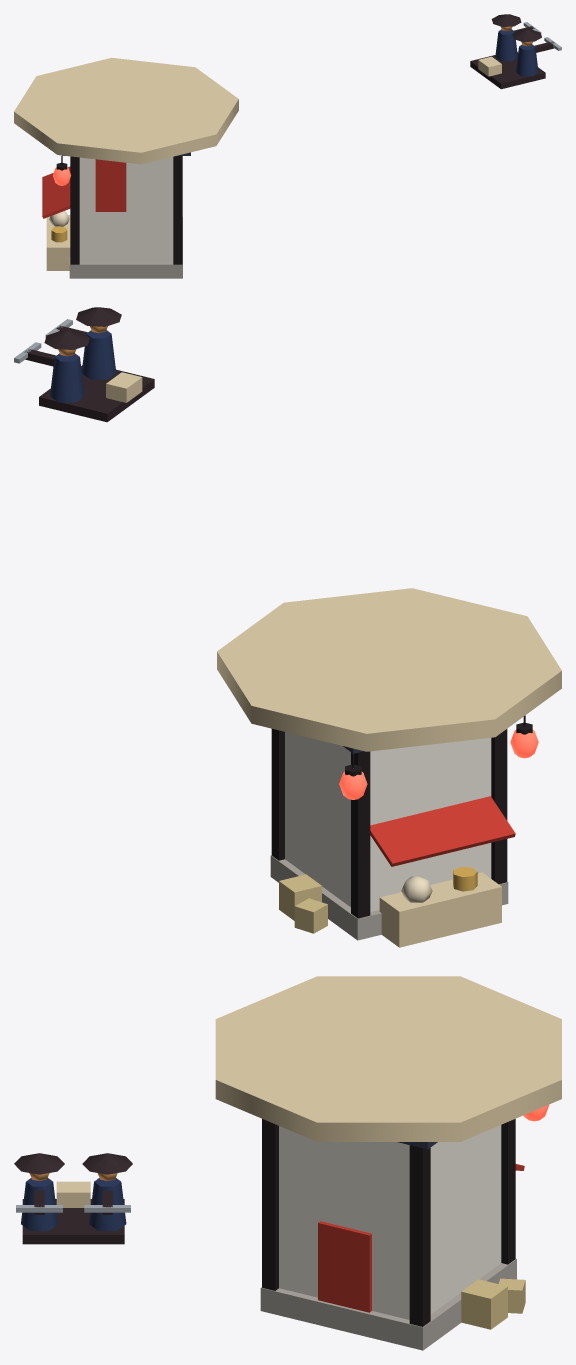
File: base_merchant_weapon_1.glb
3 renders of one model, top to bottom at view 1: azimuth 30°, elevation 25°; view 2: azimuth 150°, elevation 25°; view 3: azimuth 270°, elevation 25°, orthographic. The views are drawn at different scales.
Parts seen in each view (by area): view 1: tower_slot_1_plate, tower_slot_1_house, tower_slot_1_plinth, tower_slot_1_banner, tower_slot_1_post_3, tower_slot_1_post_1, tower_slot_1_awning, weapon_mount, tower_slot_1_counter, crossbowman_r_body, crossbowman_l_body, bolt_crate; view 2: tower_slot_1_plate, tower_slot_1_house, tower_slot_1_awning, tower_slot_1_counter, tower_slot_1_post_0, weapon_mount, tower_slot_1_plinth, tower_slot_1_post_1, tower_slot_1_post_2, crossbowman_l_body, crossbowman_r_body, tower_slot_1_crate_0 (+2 smaller); view 3: tower_slot_1_plate, tower_slot_1_house, tower_slot_1_plinth, tower_slot_1_door, tower_slot_1_post_2, tower_slot_1_post_3, weapon_mount, tower_slot_1_post_0, tower_slot_1_crate_0, crossbowman_l_body, crossbowman_r_body, bolt_crate (+3 smaller).
Boxes of the visible parts, x1,y1,x2,y2 form: tower_slot_1_plate: (14,57,238,164); tower_slot_1_house: (79,157,173,262); tower_slot_1_plinth: (69,217,182,278); tower_slot_1_banner: (95,159,126,211); tower_slot_1_post_3: (173,156,182,264); tower_slot_1_post_1: (70,156,79,264); tower_slot_1_awning: (42,166,70,218); weapon_mount: (470,52,545,89); tower_slot_1_counter: (46,215,70,270); crossbowman_r_body: (516,44,538,76); crossbowman_l_body: (495,29,517,61); bolt_crate: (478,56,501,76); tower_slot_1_plate: (217,588,561,751); tower_slot_1_house: (285,732,491,911); tower_slot_1_awning: (370,796,515,866); tower_slot_1_counter: (379,872,501,947); tower_slot_1_post_0: (351,751,370,918); weapon_mount: (39,365,154,422); tower_slot_1_plinth: (270,855,508,940); tower_slot_1_post_1: (491,729,507,884); tower_slot_1_post_2: (271,729,284,860); crossbowman_l_body: (50,353,84,402); crossbowman_r_body: (81,330,116,379); tower_slot_1_crate_0: (279,874,321,920); tower_slot_1_plate: (215,976,561,1141); tower_slot_1_house: (279,1125,501,1319); tower_slot_1_plinth: (260,1258,516,1350); tower_slot_1_door: (318,1221,371,1312); tower_slot_1_post_2: (409,1145,430,1326); tower_slot_1_post_3: (262,1119,278,1290); weapon_mount: (22,1199,124,1244); tower_slot_1_post_0: (501,1119,515,1264); tower_slot_1_crate_0: (461,1279,507,1329); crossbowman_l_body: (89,1178,126,1230); crossbowman_r_body: (21,1178,58,1230); bolt_crate: (56,1181,90,1207).
Bounding box in the file's own units: 0.9263 × 0.494 × 0.6433.
